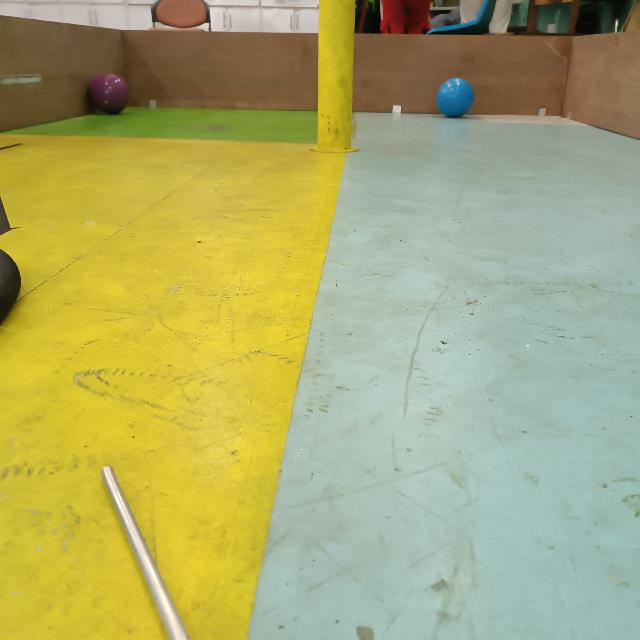B: (435, 76, 475, 120)
P: (87, 71, 133, 117)
